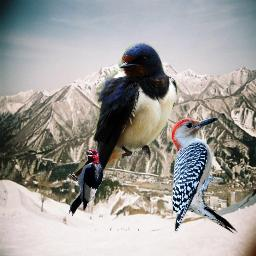Swallow: (69, 42, 179, 196)
Woodpecker: (165, 112, 243, 243), (66, 145, 104, 219)
